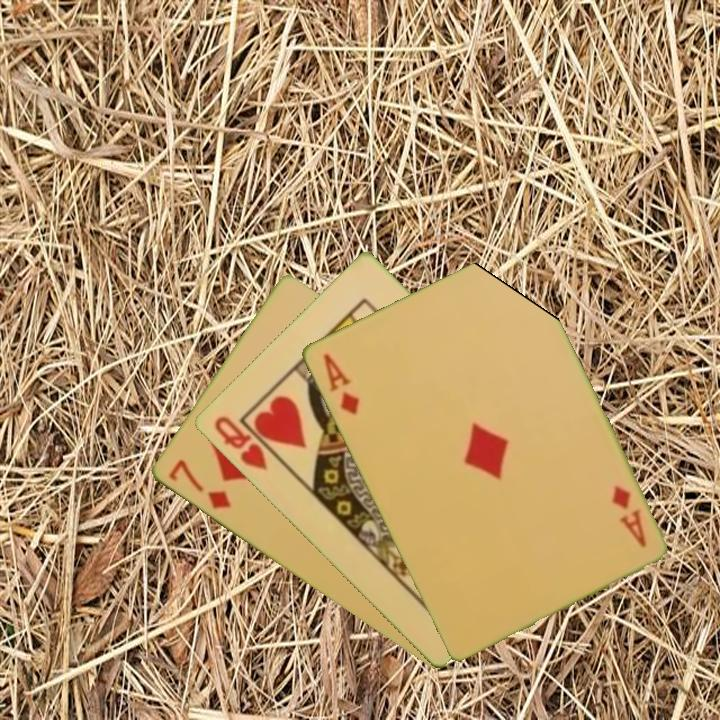7d: (164, 455, 234, 512)
Ad: (319, 349, 362, 418), (607, 481, 649, 551)
Qh: (210, 412, 270, 474)
